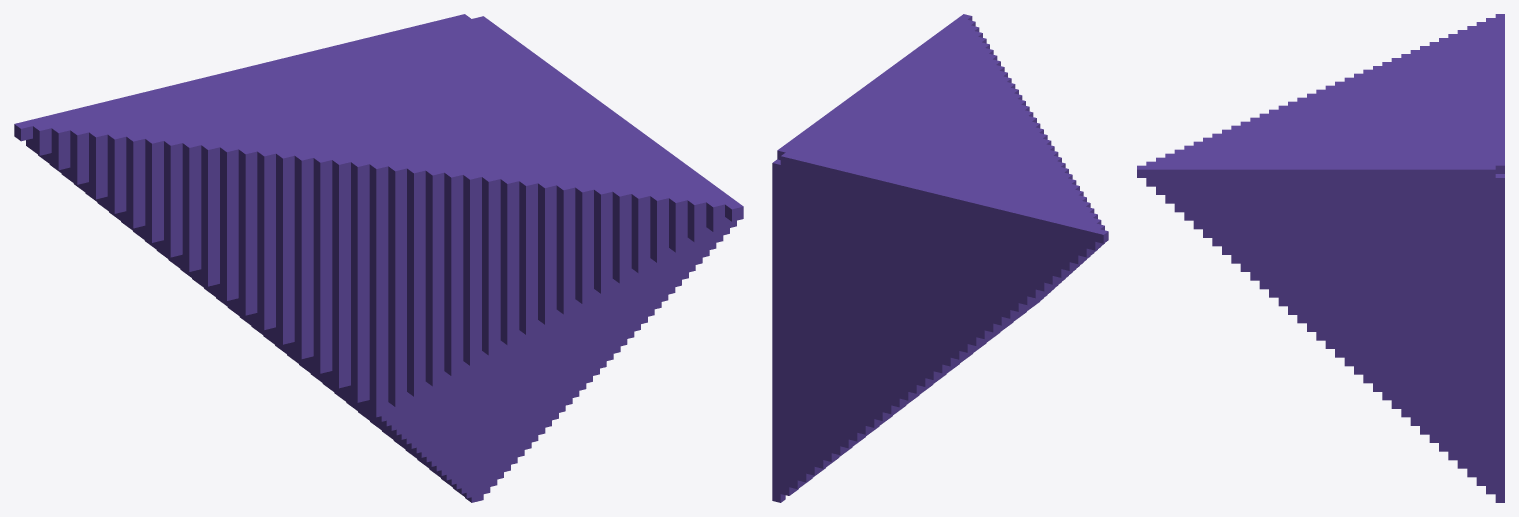
Rendered from crystal-7.obj.
The picture shows the model from 3 angles, left to right: view 1: azimuth 30°, elevation 25°; view 2: azimuth 150°, elevation 25°; view 3: azimuth 270°, elevation 25°; orthographic projection. The views are drawn at different scales.
Size of the model in its own units: 3.9 by 3.9 by 3.9.
1 material, 1 textured.
